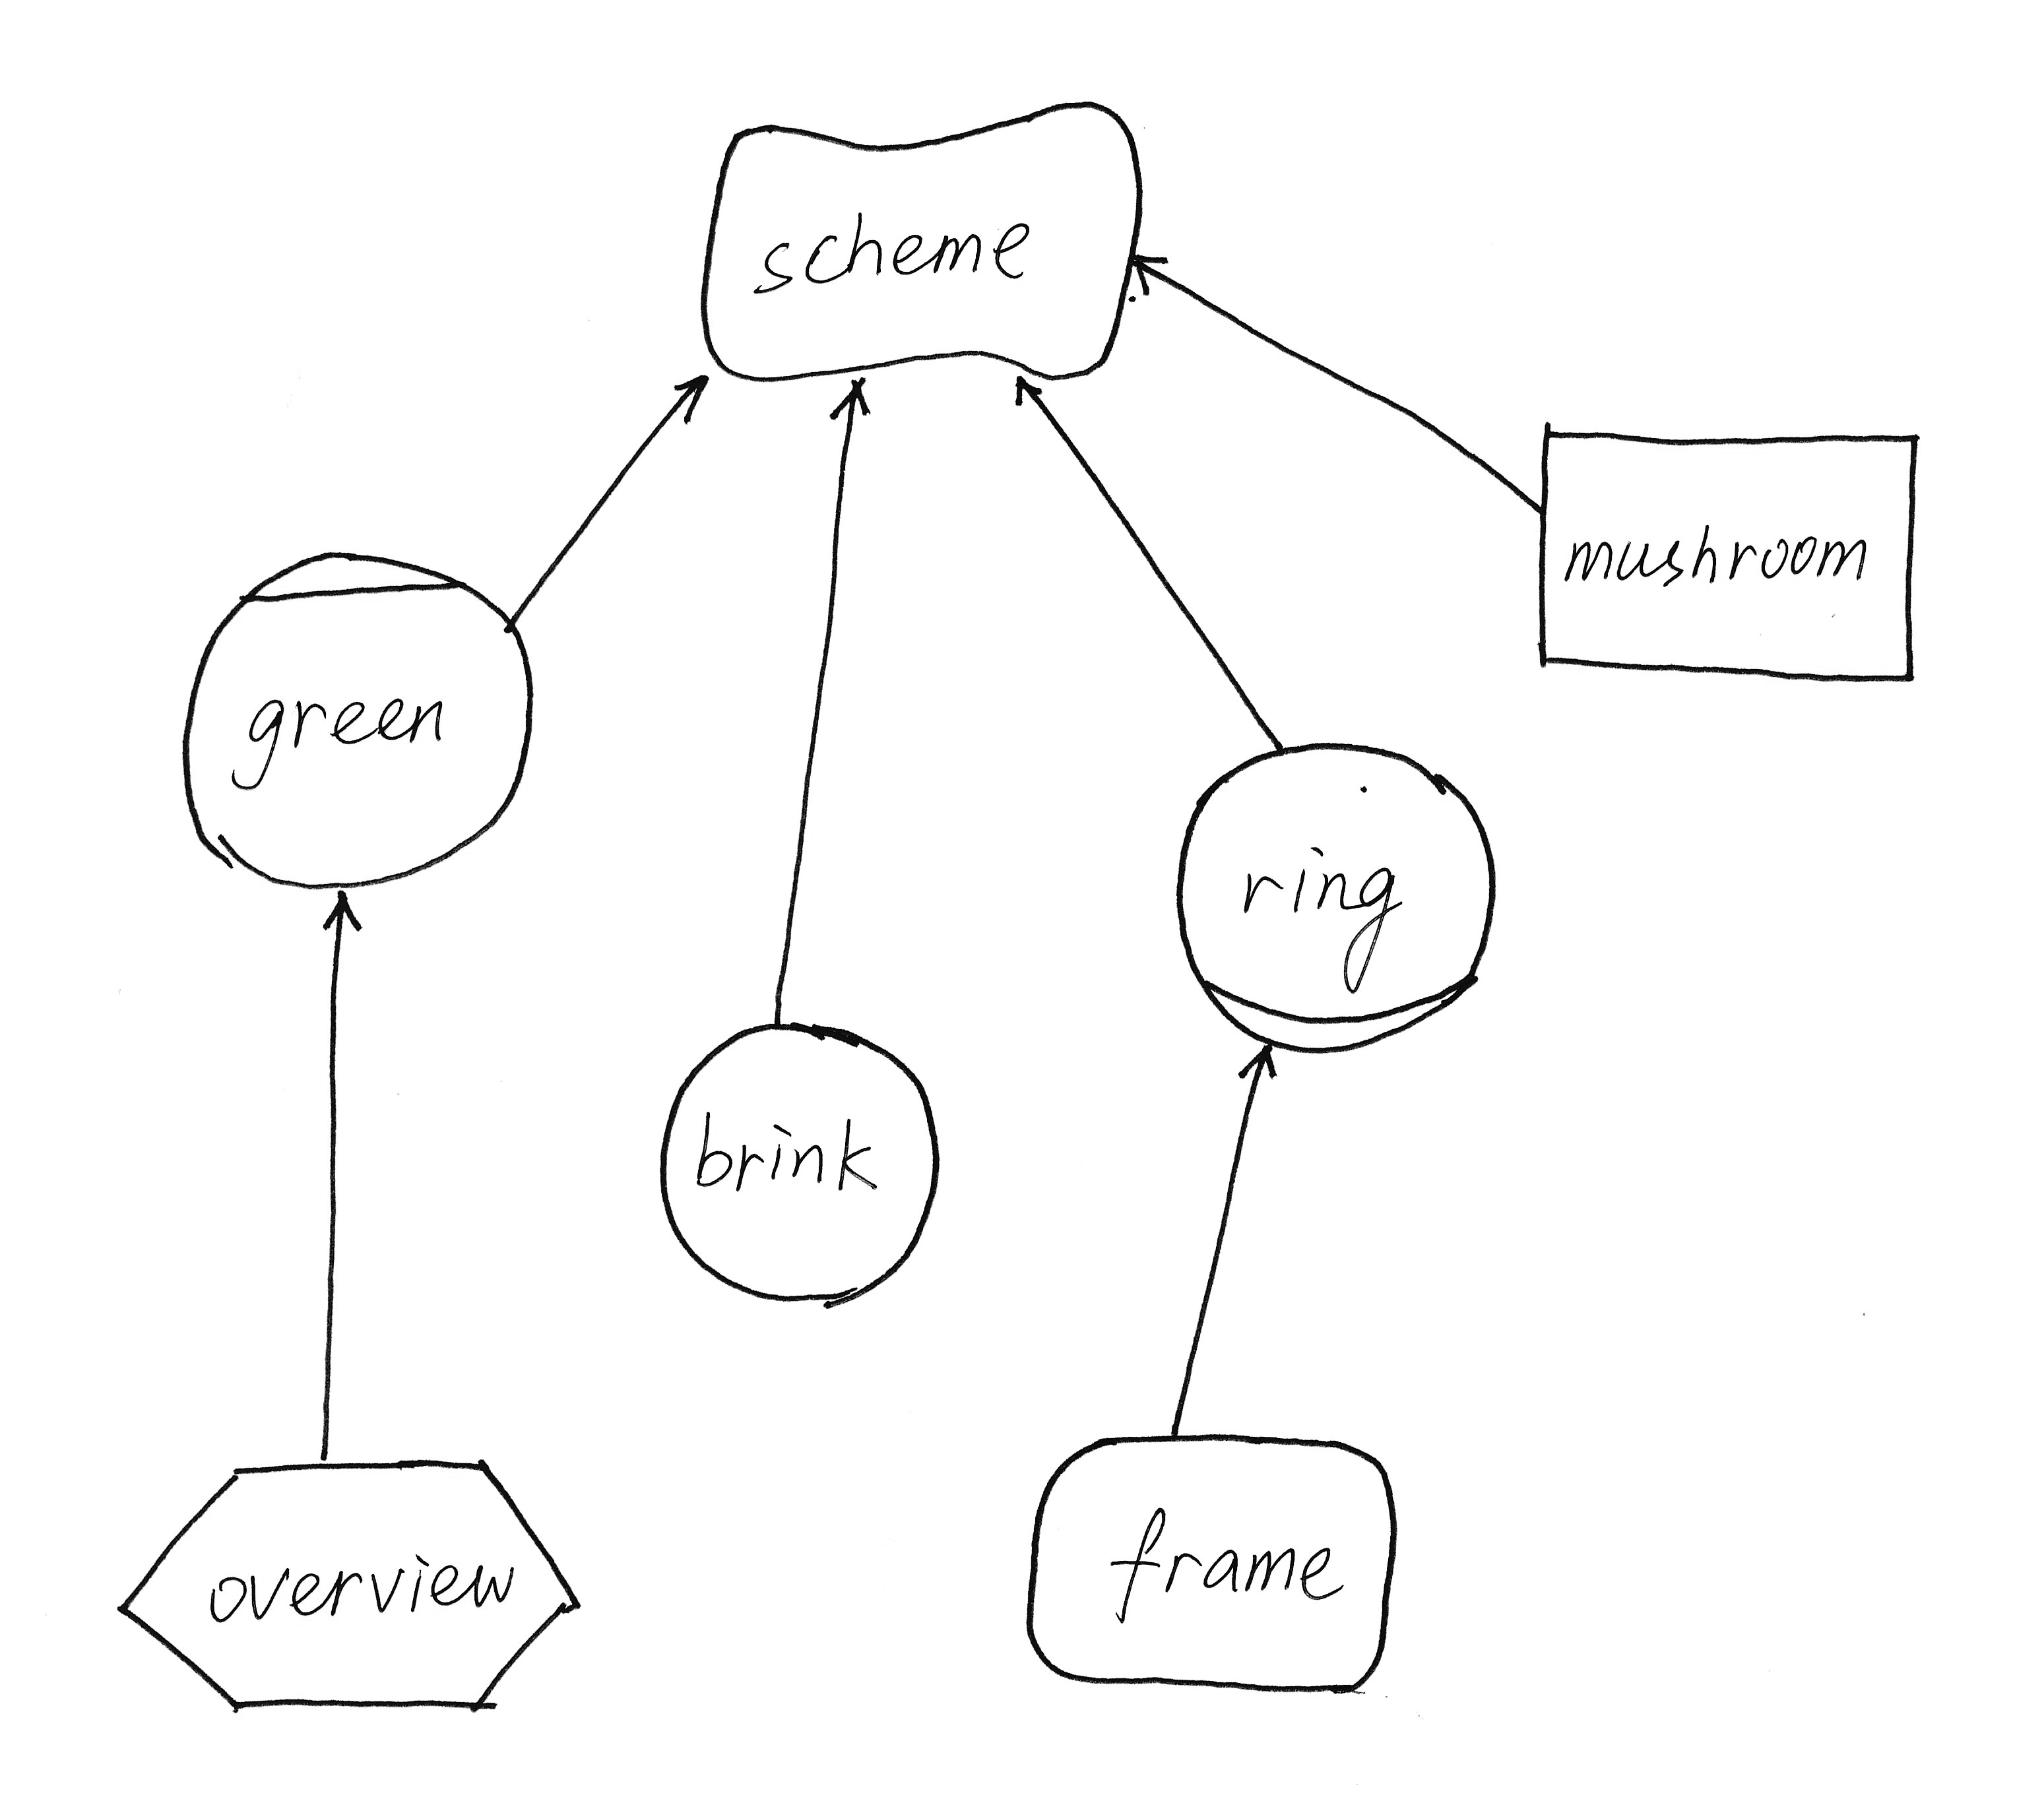actor: (624, 1004, 967, 1326)
agent: (160, 528, 554, 906)
arrow: (303, 869, 380, 960), (990, 357, 1073, 429), (822, 361, 889, 446), (1115, 235, 1181, 314), (653, 362, 721, 437), (1225, 1030, 1293, 1099)
goal: (1005, 1411, 1420, 1713)
quality: (673, 77, 1164, 415)
resource: (1511, 397, 1946, 702)
role: (1145, 723, 1519, 1073)
task: (98, 1437, 596, 1727)
